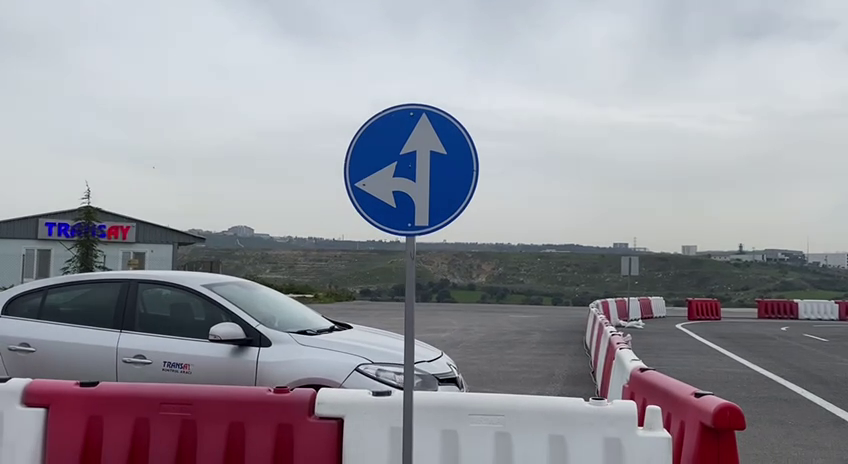forwardAndLeft: (340, 100, 482, 238)
